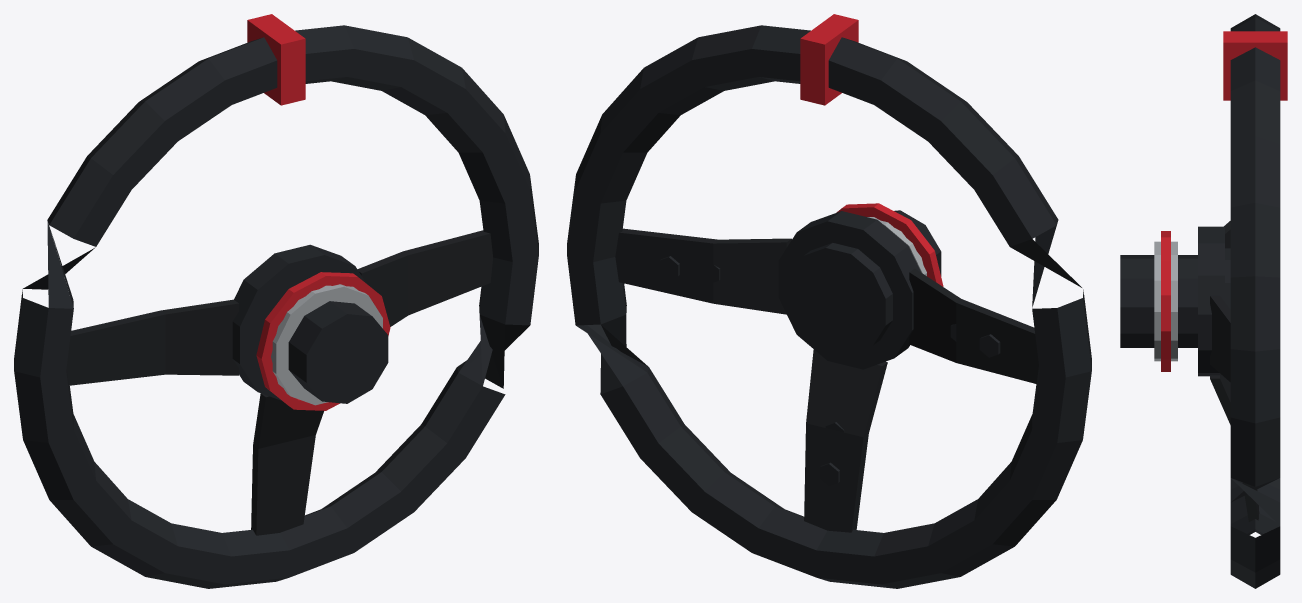
Rendered from kaze_gt.glb.
3 views of the same model, side by side, from view 1: azimuth 30°, elevation 25°; view 2: azimuth 150°, elevation 25°; view 3: azimuth 270°, elevation 25° (orthographic). The views are drawn at different scales.
Visible parts, largest first — view 1: model; view 2: model; view 3: model.
Boxes of the visible parts, x1,y1,x2,y2 form: model: [14, 14, 538, 588]; model: [567, 14, 1091, 588]; model: [1120, 14, 1287, 588].
Size of the model in its own units: 0.342 by 0.344 by 0.099.
Materials: 3 (1 with a texture image).
